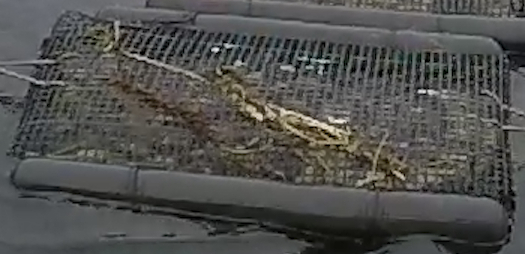bag: (6, 23, 507, 245)
